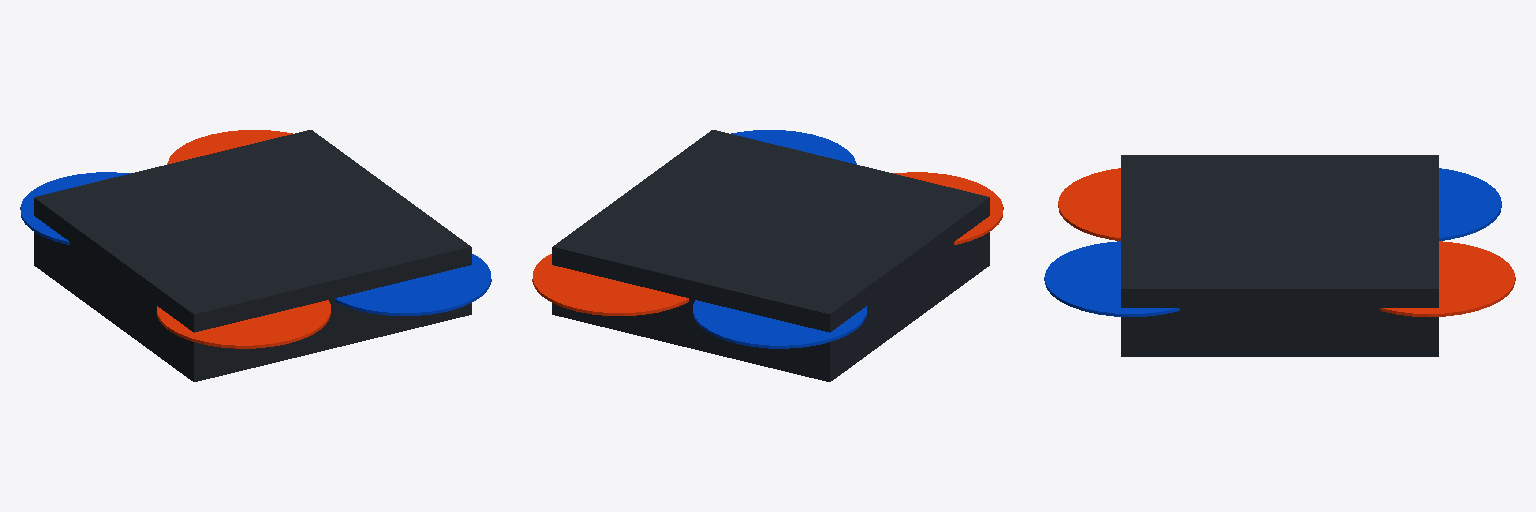
URDF robot description (px4_iris_reference):
<?xml version="1.0"?>
<robot name="px4_iris_reference">
  <!-- PX4 SITL Iris constants converted to this loader's RPM-based properties. -->
  <properties kf="6.4042766336e-8" km="3.84256598016e-9" thrust2weight="1.92086986069" prop_radius="0.128" />

  <link name="base_link">
    <inertial>
      <origin xyz="0 0 0" rpy="0 0 0" />
      <mass value="1.5" />
      <inertia ixx="0.029125" ixy="0" ixz="0" iyy="0.029125" iyz="0" izz="0.055225" />
    </inertial>
    <visual>
      <geometry><box size="0.47 0.47 0.11" /></geometry>
      <material name="iris_body"><color rgba="0.18 0.20 0.23 1" /></material>
    </visual>
    <collision>
      <geometry><box size="0.47 0.47 0.11" /></geometry>
    </collision>
  </link>

  <!-- prop0: PX4 rotor0, CCW, position (0.13, -0.22, 0.023) m. -->
  <link name="prop0_link">
    <inertial><origin xyz="0.13 -0.22 0.023"/><mass value="0"/><inertia ixx="0" ixy="0" ixz="0" iyy="0" iyz="0" izz="0"/></inertial>
    <visual><origin xyz="0.13 -0.22 0.023"/><geometry><cylinder radius="0.128" length="0.005"/></geometry><material name="prop_ccw_a"><color rgba="0.05 0.35 0.85 0.55"/></material></visual>
    <collision><origin xyz="0.13 -0.22 0.023"/><geometry><cylinder radius="0.128" length="0.005"/></geometry></collision>
  </link>
  <joint name="prop0_joint" type="fixed"><parent link="base_link"/><child link="prop0_link"/></joint>

  <!-- prop1: PX4 rotor2, CW, position (0.13, 0.22, 0.023) m. -->
  <link name="prop1_link">
    <inertial><origin xyz="0.13 0.22 0.023"/><mass value="0"/><inertia ixx="0" ixy="0" ixz="0" iyy="0" iyz="0" izz="0"/></inertial>
    <visual><origin xyz="0.13 0.22 0.023"/><geometry><cylinder radius="0.128" length="0.005"/></geometry><material name="prop_cw_a"><color rgba="0.95 0.28 0.08 0.55"/></material></visual>
    <collision><origin xyz="0.13 0.22 0.023"/><geometry><cylinder radius="0.128" length="0.005"/></geometry></collision>
  </link>
  <joint name="prop1_joint" type="fixed"><parent link="base_link"/><child link="prop1_link"/></joint>

  <!-- prop2: PX4 rotor1, CCW, position (-0.13, 0.20, 0.023) m. -->
  <link name="prop2_link">
    <inertial><origin xyz="-0.13 0.20 0.023"/><mass value="0"/><inertia ixx="0" ixy="0" ixz="0" iyy="0" iyz="0" izz="0"/></inertial>
    <visual><origin xyz="-0.13 0.20 0.023"/><geometry><cylinder radius="0.128" length="0.005"/></geometry><material name="prop_ccw_b"><color rgba="0.05 0.35 0.85 0.55"/></material></visual>
    <collision><origin xyz="-0.13 0.20 0.023"/><geometry><cylinder radius="0.128" length="0.005"/></geometry></collision>
  </link>
  <joint name="prop2_joint" type="fixed"><parent link="base_link"/><child link="prop2_link"/></joint>

  <!-- prop3: PX4 rotor3, CW, position (-0.13, -0.20, 0.023) m. -->
  <link name="prop3_link">
    <inertial><origin xyz="-0.13 -0.20 0.023"/><mass value="0"/><inertia ixx="0" ixy="0" ixz="0" iyy="0" iyz="0" izz="0"/></inertial>
    <visual><origin xyz="-0.13 -0.20 0.023"/><geometry><cylinder radius="0.128" length="0.005"/></geometry><material name="prop_cw_b"><color rgba="0.95 0.28 0.08 0.55"/></material></visual>
    <collision><origin xyz="-0.13 -0.20 0.023"/><geometry><cylinder radius="0.128" length="0.005"/></geometry></collision>
  </link>
  <joint name="prop3_joint" type="fixed"><parent link="base_link"/><child link="prop3_link"/></joint>
</robot>

--- What the picture shows (computed from the rendered views, not written in the file) ---
The picture shows the robot from 3 angles, left to right: view 1: azimuth 30°, elevation 25°; view 2: azimuth 150°, elevation 25°; view 3: azimuth 270°, elevation 25°; orthographic projection.
Robot: px4_iris_reference — 5 links, 4 joints (4 fixed); root link base_link; default pose: all joints at 0.
Visible links, largest first — view 1: base_link, prop0_link, prop3_link, prop1_link, prop2_link; view 2: base_link, prop1_link, prop2_link, prop0_link, prop3_link; view 3: base_link, prop0_link, prop1_link, prop2_link, prop3_link.
Link boxes in pixels (x1,y1,x2,y2): base_link: (34, 130, 471, 381); prop0_link: (335, 254, 491, 315); prop3_link: (157, 300, 330, 348); prop1_link: (167, 130, 292, 164); prop2_link: (20, 172, 130, 244); base_link: (552, 130, 989, 381); prop1_link: (532, 254, 688, 315); prop2_link: (693, 300, 866, 348); prop0_link: (731, 130, 856, 164); prop3_link: (893, 172, 1003, 244); base_link: (1121, 155, 1438, 356); prop0_link: (1044, 241, 1179, 316); prop1_link: (1380, 241, 1515, 316); prop2_link: (1439, 168, 1501, 240); prop3_link: (1058, 168, 1120, 240).
Size in the robot's own frame: 0.516 by 0.696 by 0.11 metres.
Geometry: primitives only (box / cylinder / sphere), no mesh files.
